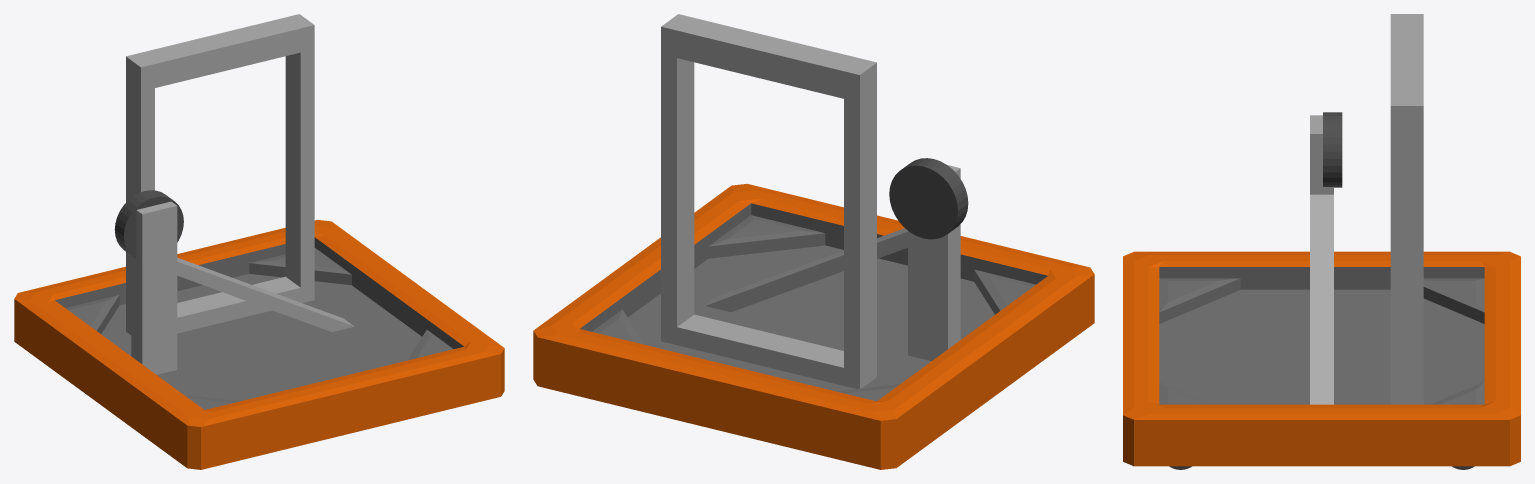
The picture shows the model from 3 angles, left to right: view 1: azimuth 30°, elevation 25°; view 2: azimuth 150°, elevation 25°; view 3: azimuth 270°, elevation 25°; orthographic projection. The views are drawn at different scales.
Visible parts, largest first — view 1: Base; view 2: Base; view 3: Base.
Part boxes in pixels (x1,y1,x2,y2): Base: (14,14,504,469); Base: (533,14,1094,469); Base: (1123,14,1520,469).
Bounding box in the file's own units: 0.8317 × 0.8026 × 0.8317.
